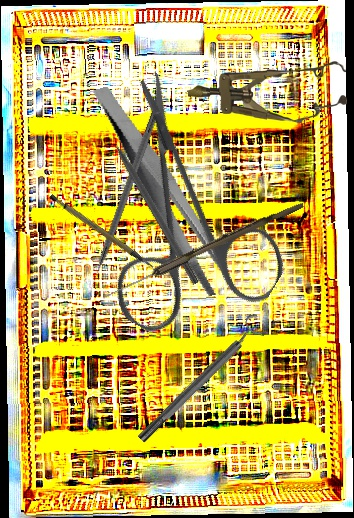Dressing Forceps: (92, 68, 234, 312)
Fixation Ring: (130, 310, 272, 449)
Hook Surgical: (102, 124, 202, 286), (84, 102, 163, 296)
Iris Scissors: (32, 68, 338, 376)
Scalpel Handle: (47, 181, 156, 285)
Speculum: (186, 58, 348, 125)
Surgical Spoon: (100, 197, 305, 304)
